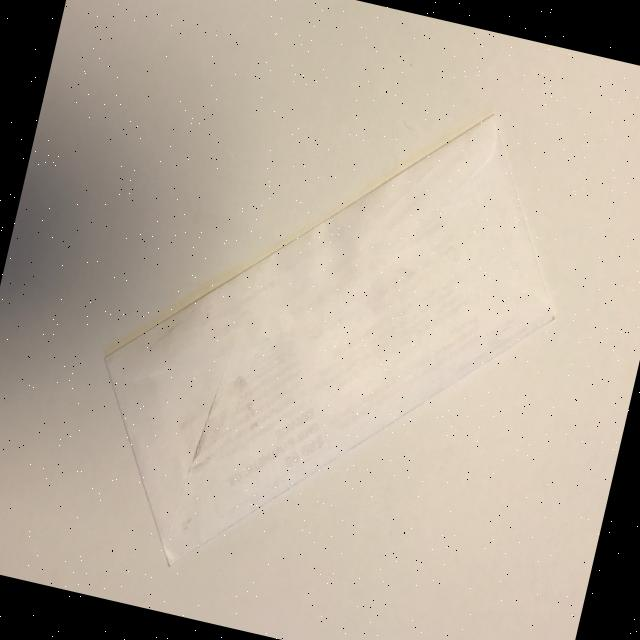paper: (61, 39, 596, 638)
